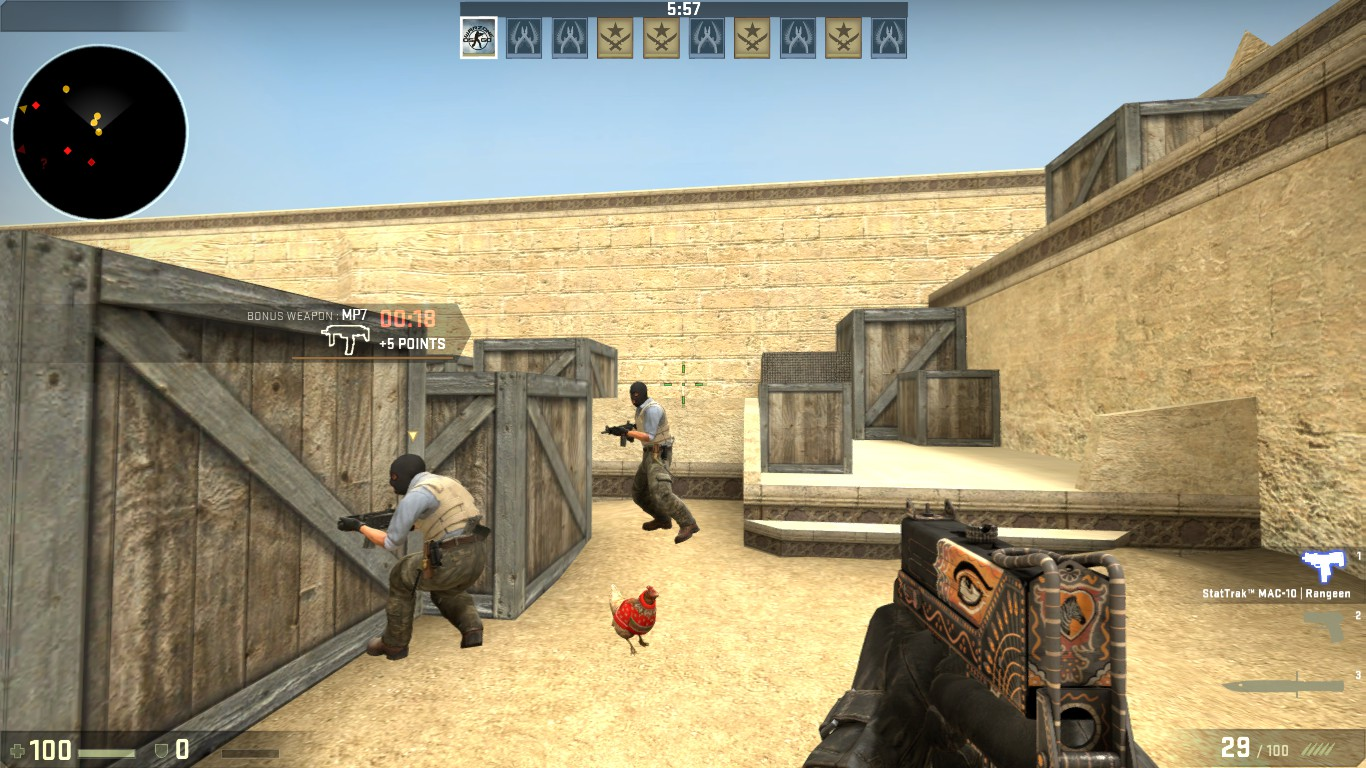t: (362, 447, 488, 667), (618, 382, 697, 544)
th: (381, 452, 431, 497), (625, 381, 652, 409)
